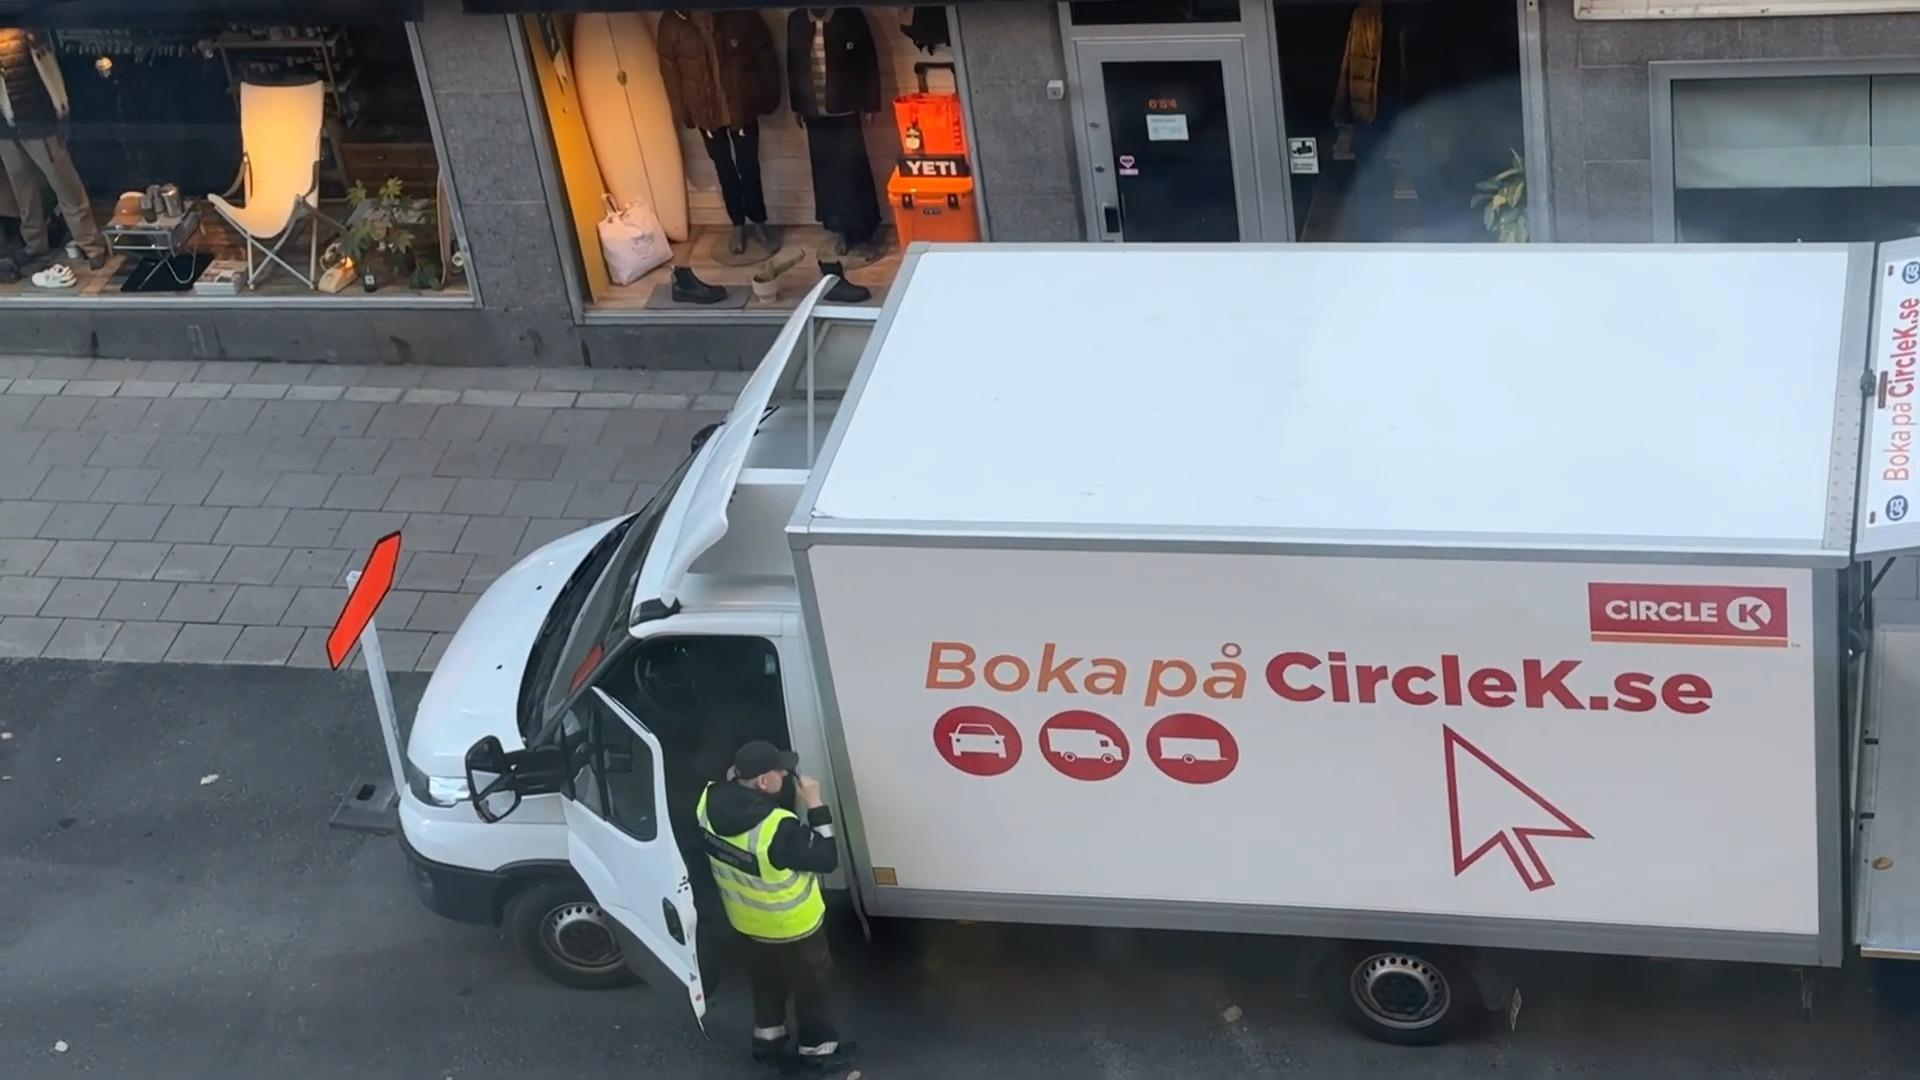parking-attendant: (696, 740, 855, 1071)
